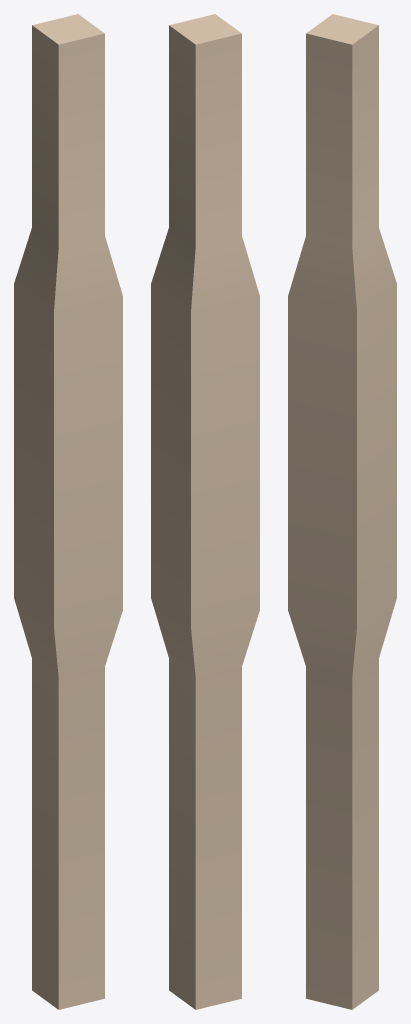
Rendered from column_x2_deco.fbx.
3 views of the same model, side by side, from view 1: azimuth 30°, elevation 25°; view 2: azimuth 210°, elevation 25°; view 3: azimuth 330°, elevation 25° (orthographic).
Parts seen in each view (by area): view 1: column_x2_deco; view 2: column_x2_deco; view 3: column_x2_deco.
Part boxes in pixels (bbox=[...]): column_x2_deco: bbox=[14, 14, 122, 1009]; column_x2_deco: bbox=[151, 14, 259, 1009]; column_x2_deco: bbox=[288, 14, 396, 1009].
Size of the model in its own units: 14.95 by 200 by 14.95.
